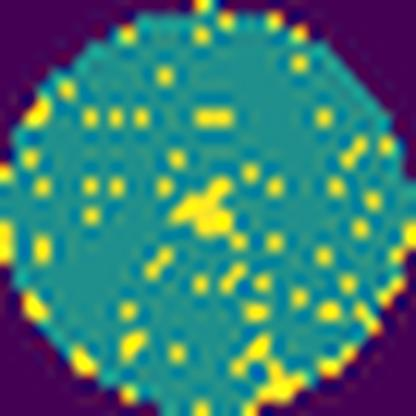Center: (170, 165, 252, 245)
